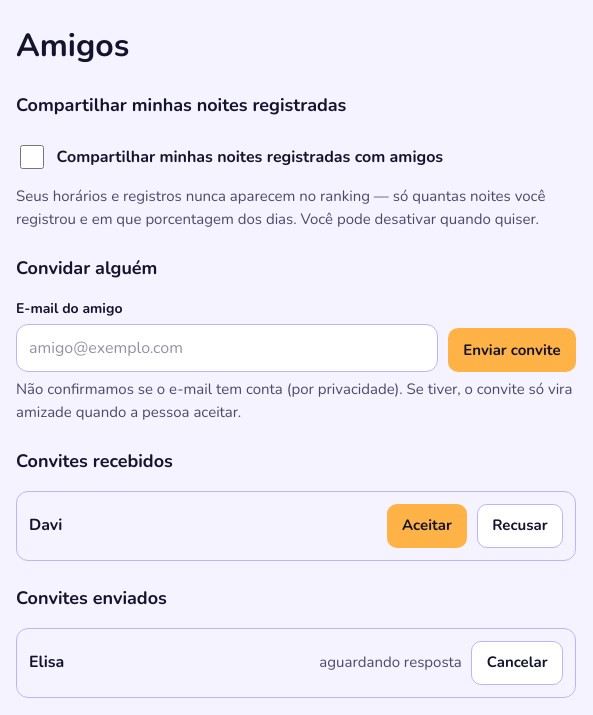
tela de Amigos › carregar() em andamento não sobrescreve o período escolhido depois (#266)
What coordinates should you click on to do the following:
click the button "Aceitar"
I would click on:
 (427, 526)
Its box is top-left (387, 504), bottom-right (467, 548).
(page scrolled)
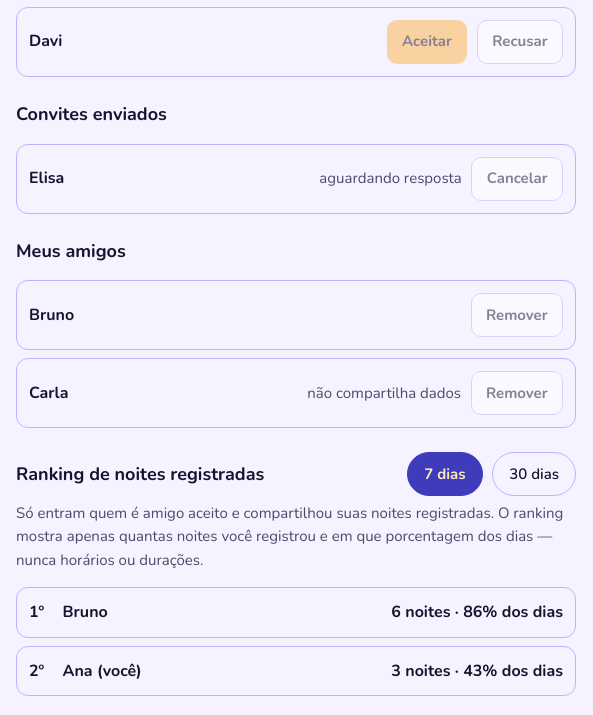
// Nesse meio-tempo o usuário escolhe 30 dias
What coordinates should you click on to do the following:
click the button "30 dias"
I would click on:
 (534, 474)
Its box is top-left (492, 452), bottom-right (576, 496).
(page scrolled)
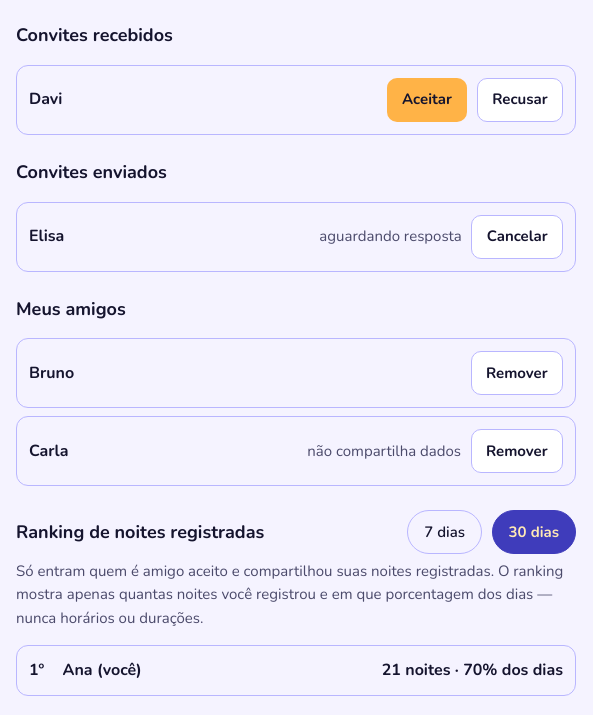
Now the text "3 noites · 43% dos dias" is gone
Now the text "21 noites · 70% dos dias" is shown, box top-left (382, 658), bottom-right (563, 683)
